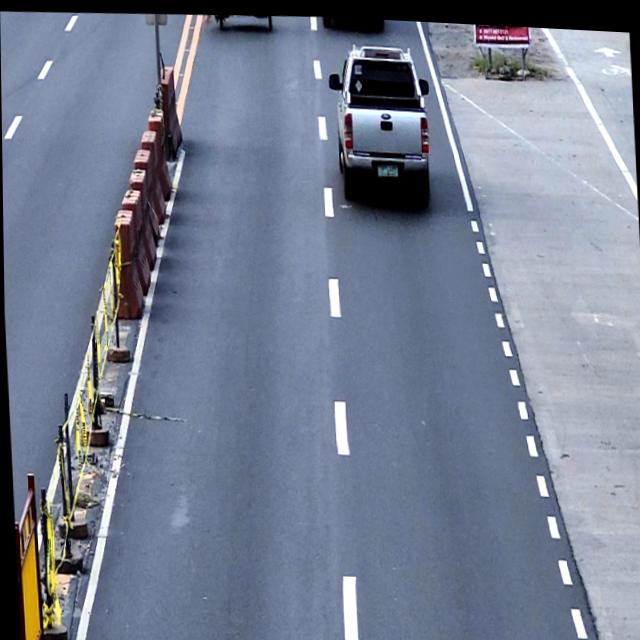Car: (326, 35, 434, 202)
License-Plate: (375, 157, 398, 175)
